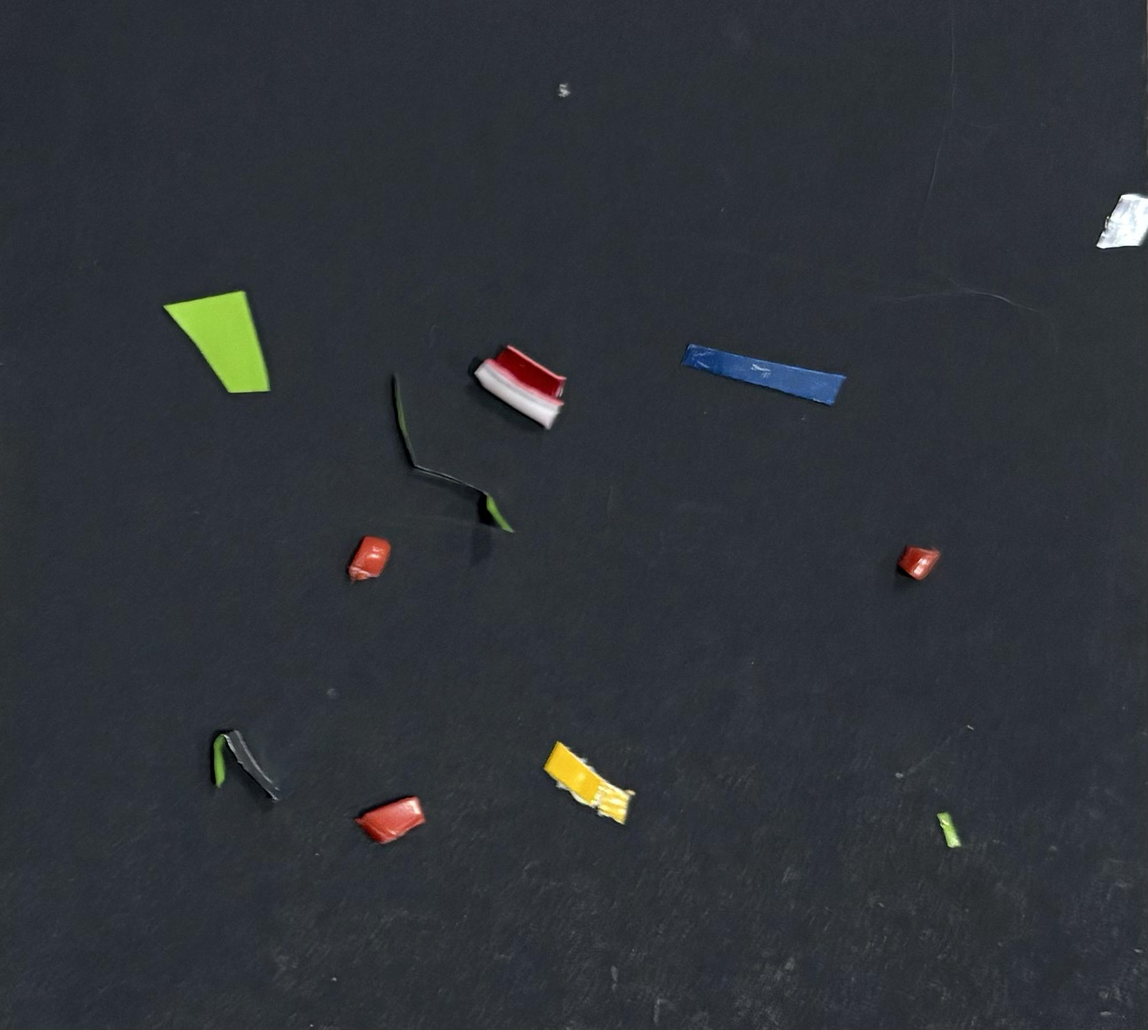Microplastic Particle: (392, 376, 514, 533), (161, 291, 271, 395), (681, 343, 845, 405), (474, 346, 565, 429), (544, 742, 634, 824), (213, 730, 279, 802), (356, 796, 425, 844), (1096, 194, 1147, 249), (347, 536, 390, 581), (898, 546, 940, 580), (937, 812, 962, 848)
